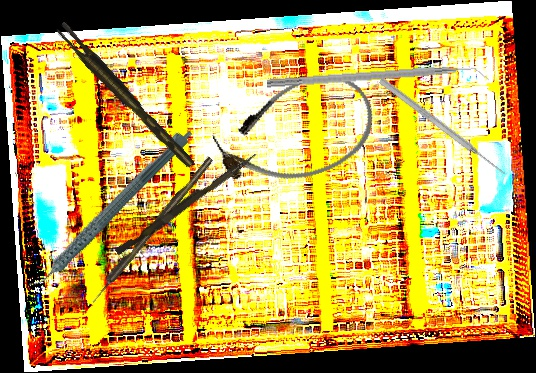Cannula: (204, 60, 387, 204)
Chopper: (266, 63, 490, 100)
Handpiece: (7, 153, 186, 290), (75, 123, 195, 244)
Hook Surgical: (88, 155, 215, 305)
Pusher: (114, 146, 259, 260), (377, 76, 508, 178)
Tissue Forceps: (54, 17, 195, 175)
